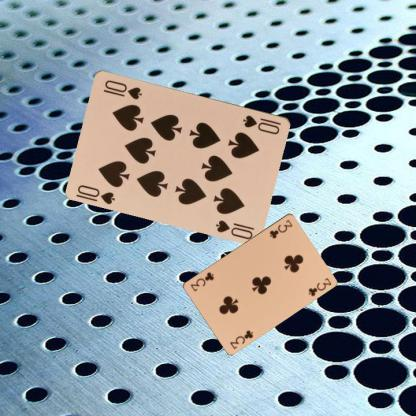10s: (240, 112, 283, 136), (75, 182, 117, 206)
3c: (227, 327, 254, 350), (267, 217, 293, 240)
